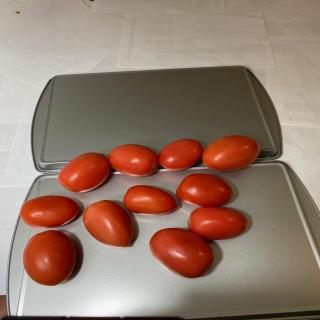Tomato: (149, 228, 215, 278), (23, 230, 76, 286), (83, 200, 134, 247), (57, 152, 110, 193), (202, 135, 260, 172), (188, 206, 248, 240), (176, 173, 233, 207), (20, 196, 80, 228), (108, 144, 159, 177), (123, 185, 177, 216), (158, 138, 203, 172)
